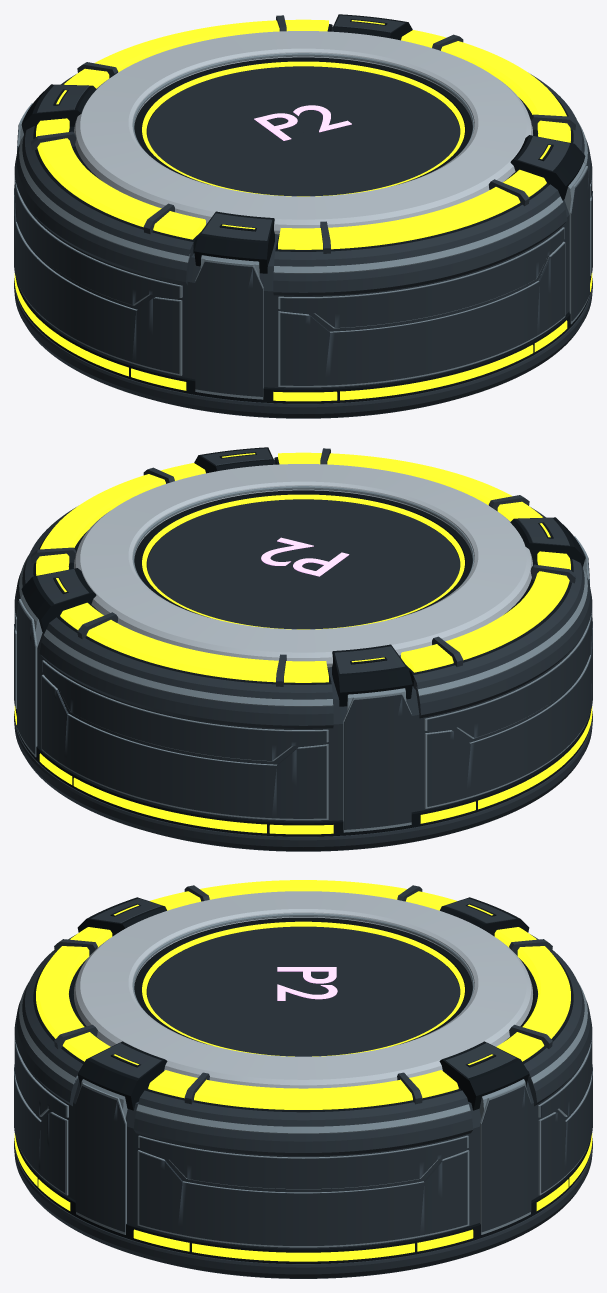
The model's file is Toppler.fbx.
3 views of the same model, one above another, from view 1: azimuth 30°, elevation 25°; view 2: azimuth 150°, elevation 25°; view 3: azimuth 270°, elevation 25° (orthographic).
Visible parts, largest first — view 1: SM_Puck_Toppler_P2_HighDetail; view 2: SM_Puck_Toppler_P2_HighDetail; view 3: SM_Puck_Toppler_P2_HighDetail.
Boxes of the visible parts, bbox=[...] form: SM_Puck_Toppler_P2_HighDetail: bbox=[14, 14, 592, 418]; SM_Puck_Toppler_P2_HighDetail: bbox=[14, 447, 592, 851]; SM_Puck_Toppler_P2_HighDetail: bbox=[14, 880, 592, 1278].
Bounding box in the file's own units: 90.3 × 90.3 × 30.7.
